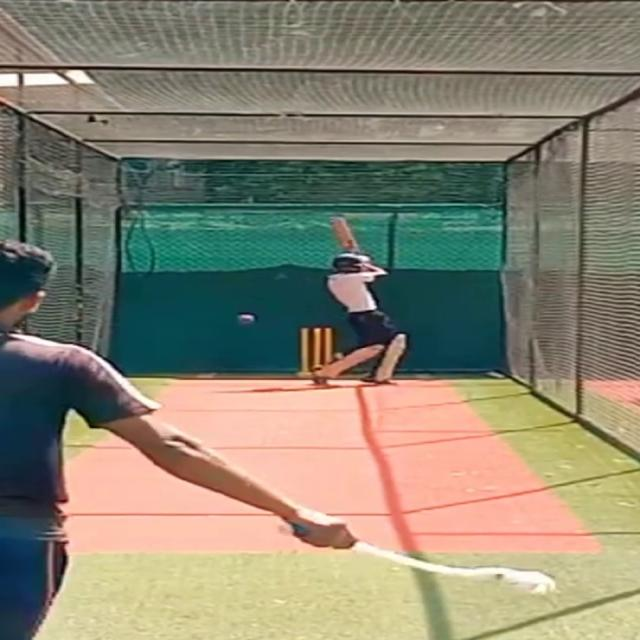ball: (235, 313, 252, 323)
stump: (295, 324, 334, 379)
